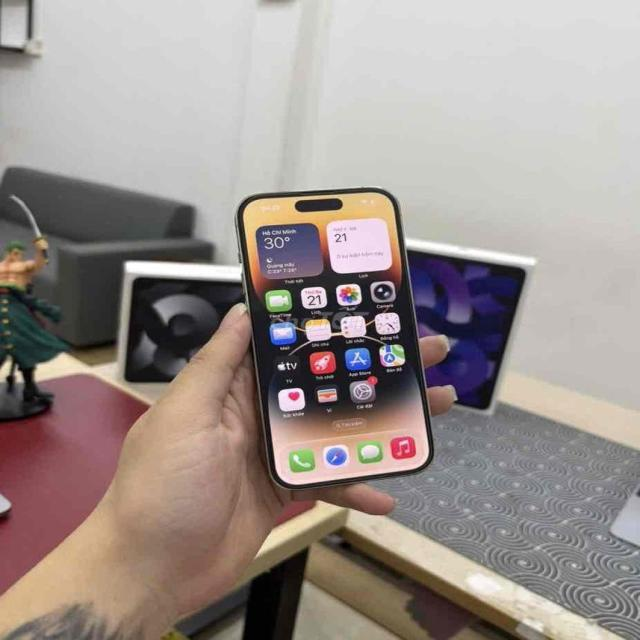gen_14: (229, 184, 443, 502)
